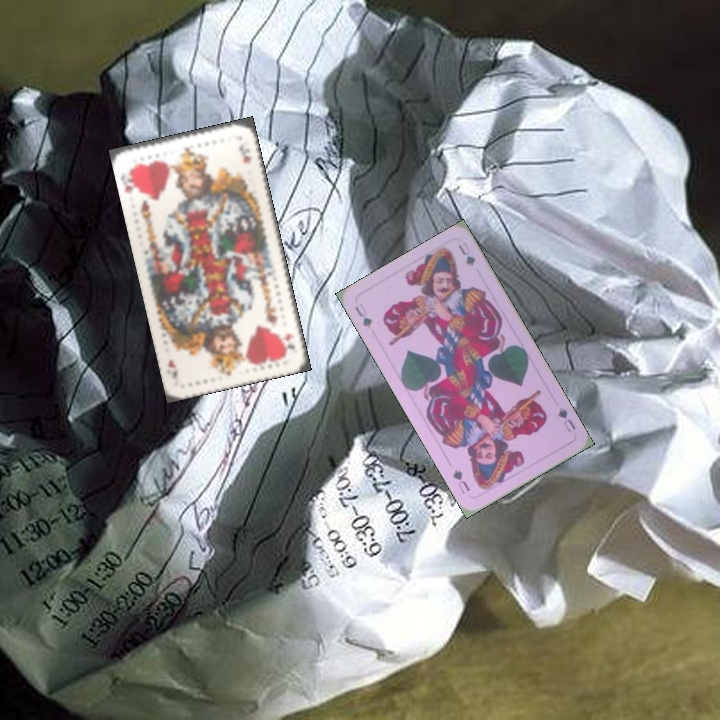GU: (554, 404, 579, 435), (351, 299, 375, 331)
HK: (280, 329, 301, 357), (120, 176, 141, 197)
